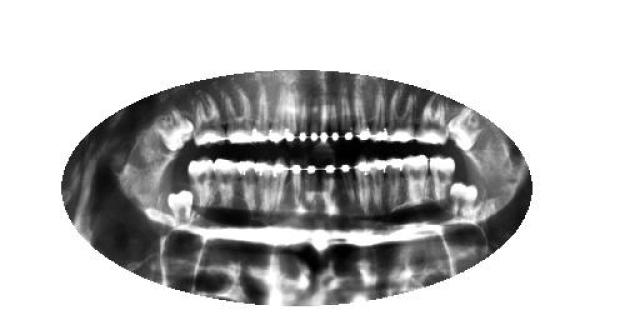Restorations: (158, 105, 198, 154), (446, 106, 485, 150)
